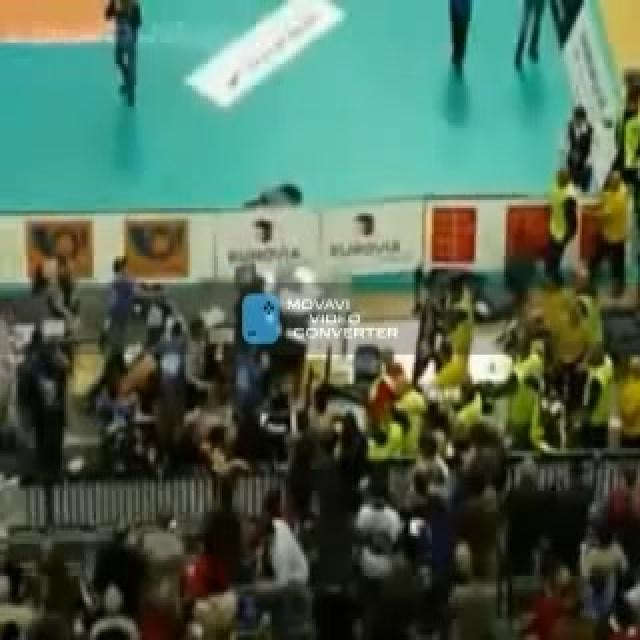non-voilence: (0, 0, 638, 637), (102, 0, 142, 107)
